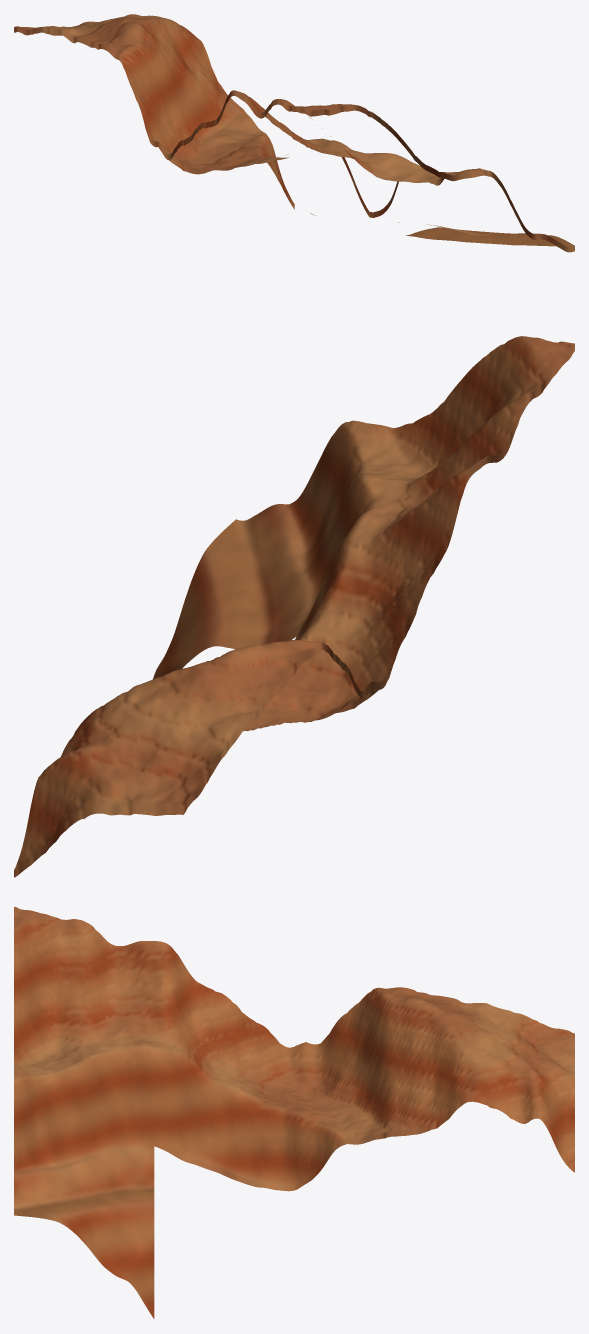
The model's file is terrain-007.glb.
3 renders of one model, top to bottom at view 1: azimuth 30°, elevation 25°; view 2: azimuth 150°, elevation 25°; view 3: azimuth 270°, elevation 25°, orthographic. The views are drawn at different scales.
Visible parts, largest first — view 1: terrain-007; view 2: terrain-007; view 3: terrain-007.
Boxes of the visible parts, x1,y1,x2,y2 form: terrain-007: (14, 14, 574, 252); terrain-007: (14, 336, 574, 877); terrain-007: (14, 906, 574, 1318).
Bounding box in the file's own units: 192 × 222 × 384.
